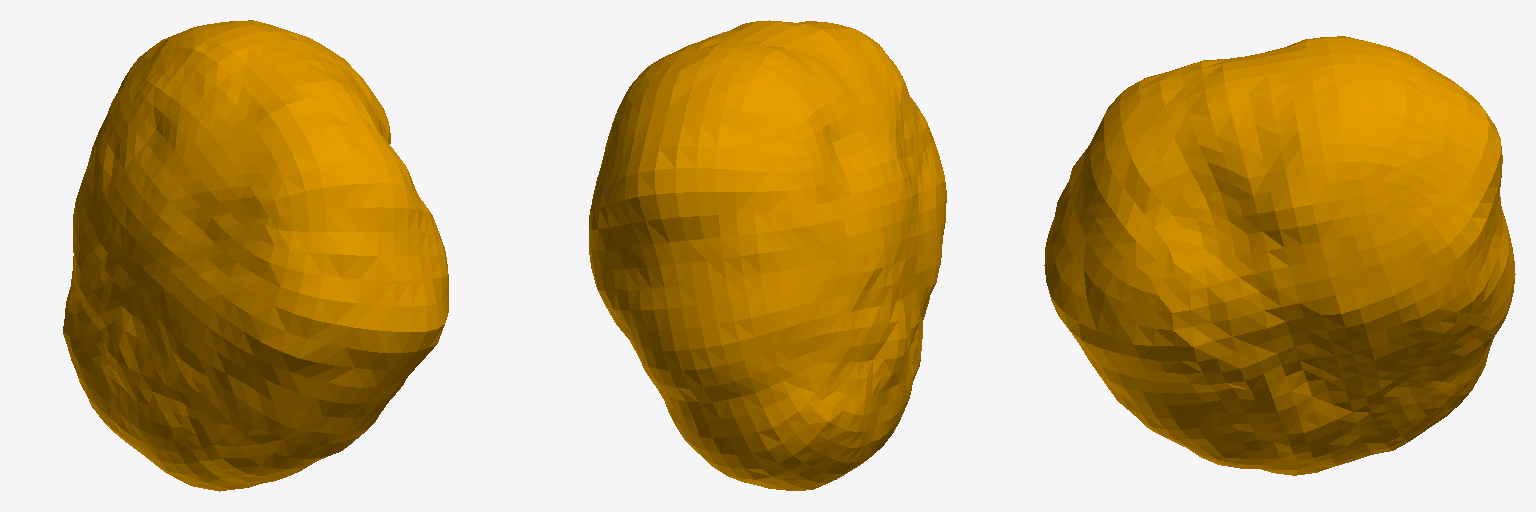
The robot description file, URDF, robot "rock":
<?xml version="1.0" ?>
<robot name="rock">
  <link name="rock">
    <inertial>
      <mass value="0.313"/>
      <origin rpy="0 0 0" xyz="0 0 0"/>
      <inertia ixx="0.000313" ixy="0" ixz="0" iyy="0.000313" iyz="0" izz="0.000313"/>
    </inertial>
    <collision name="rock_collision">
      <origin rpy="0 0 0" xyz="0 0 0"/>
      <geometry>
        <mesh filename="package://rocks/visual/56.dae" scale="1 1 1"/>
      </geometry>
    </collision>
    <visual name="rock_visual">
      <origin rpy="0 0 0" xyz="0 0 0"/>
      <geometry>
        <mesh filename="package://rocks/visual/56.dae" scale="1 1 1"/>
      </geometry>
    </visual>
  </link>
</robot>

--- Render facts (derived) ---
Views: 3 orthographic renders of the robot side by side, from view 1: azimuth 30°, elevation 25°; view 2: azimuth 150°, elevation 25°; view 3: azimuth 270°, elevation 25°.
Model rock with 1 links and 0 joints (none), rooted at rock, posed all joints at 0.
Visible links, largest first — view 1: rock; view 2: rock; view 3: rock.
Boxes of the visible links, x1,y1,x2,y2 form: rock: [63, 20, 448, 491]; rock: [589, 20, 946, 490]; rock: [1044, 36, 1515, 475].
Size in the robot's own frame: 0.0546 by 0.0779 by 0.0805 metres.
1 mesh visuals loaded from 1 distinct referenced files (1 Collada DAE).